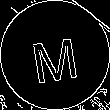M_N: (28, 26, 82, 84)
